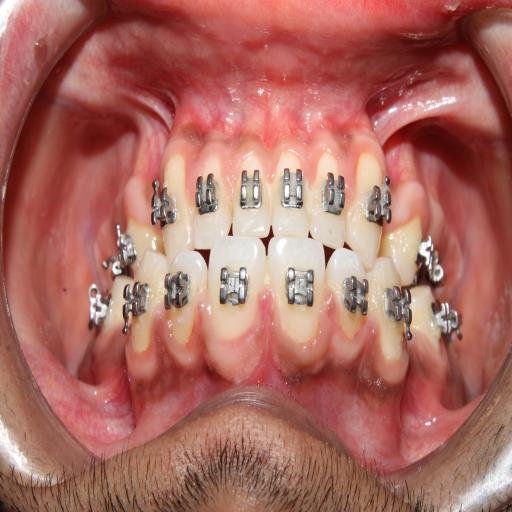correct_brace: (337, 263, 369, 322), (362, 168, 390, 231), (316, 167, 344, 230), (194, 168, 223, 219), (281, 162, 306, 220), (239, 167, 267, 214), (165, 266, 192, 314)
incorrect_brace: (328, 245, 370, 339), (163, 248, 205, 342), (191, 151, 230, 249), (310, 148, 345, 246)
